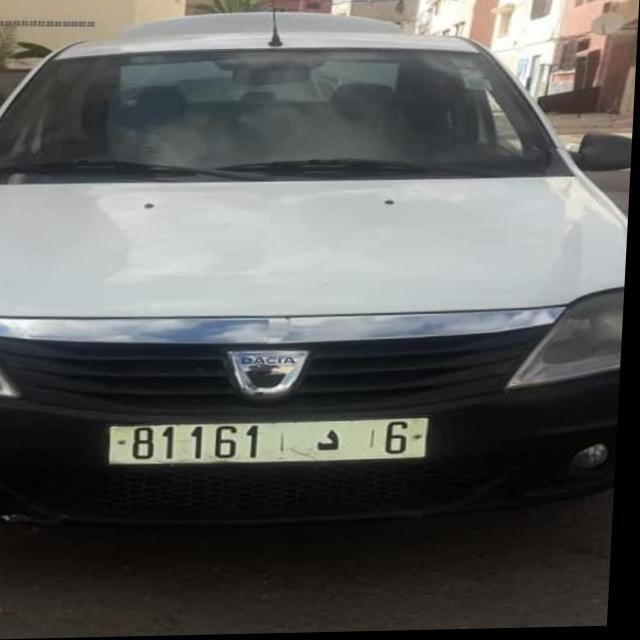License-Plate: (114, 420, 434, 465)
